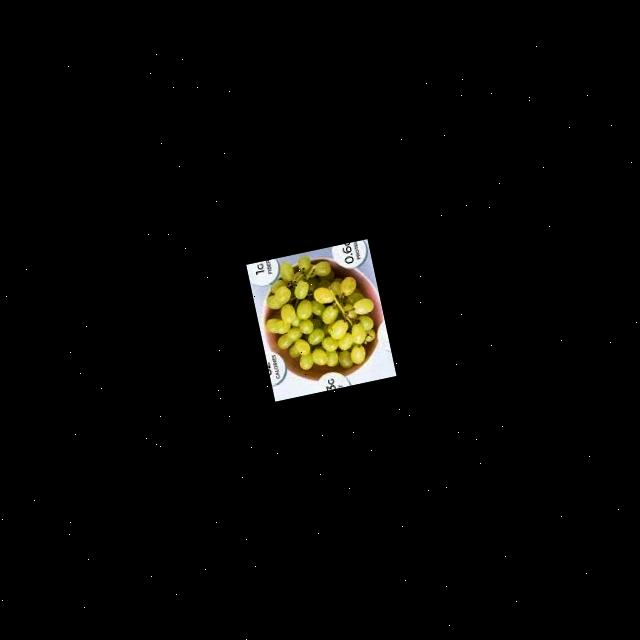grape: (252, 246, 384, 384)
